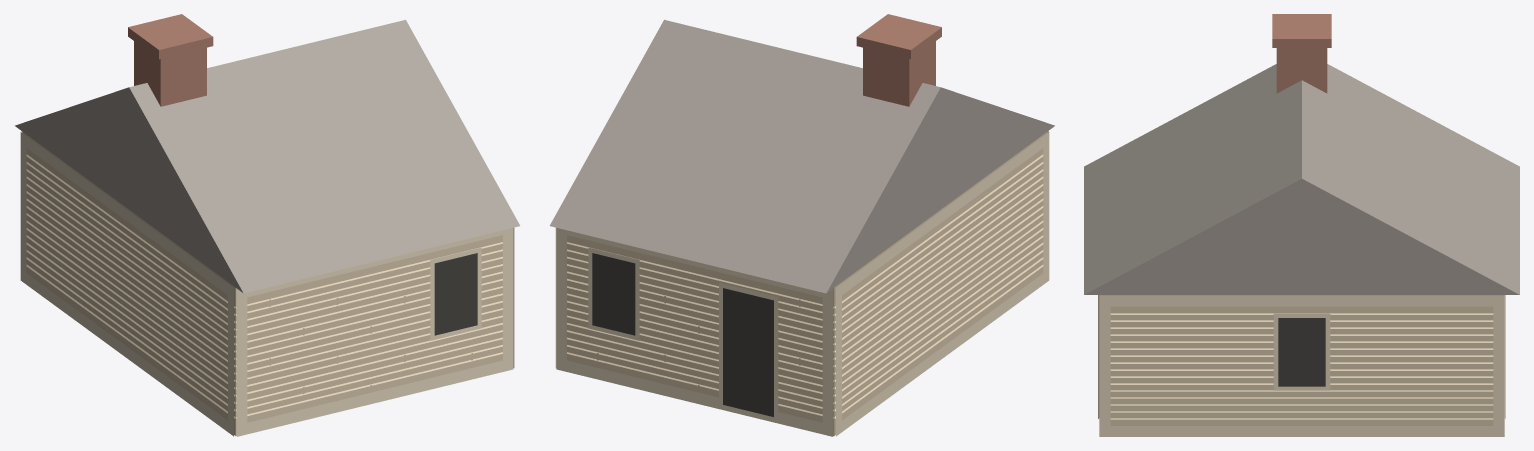
Rendered from recon_1835_blk_lake_market_d3_03__inferred_1835.glb.
The picture shows the model from 3 angles, left to right: view 1: azimuth 30°, elevation 25°; view 2: azimuth 150°, elevation 25°; view 3: azimuth 270°, elevation 25°; orthographic projection. The views are drawn at different scales.
Parts seen in each view (by area): view 1: recon_1835_blk_lake_market_d3_03__inferred_1835; view 2: recon_1835_blk_lake_market_d3_03__inferred_1835; view 3: recon_1835_blk_lake_market_d3_03__inferred_1835.
Part boxes in pixels (x1,y1,x2,y2): recon_1835_blk_lake_market_d3_03__inferred_1835: (15,14,520,436); recon_1835_blk_lake_market_d3_03__inferred_1835: (549,14,1054,436); recon_1835_blk_lake_market_d3_03__inferred_1835: (1084,14,1519,436).
Size of the model in its own units: 5.09 by 5.47 by 7.19.
